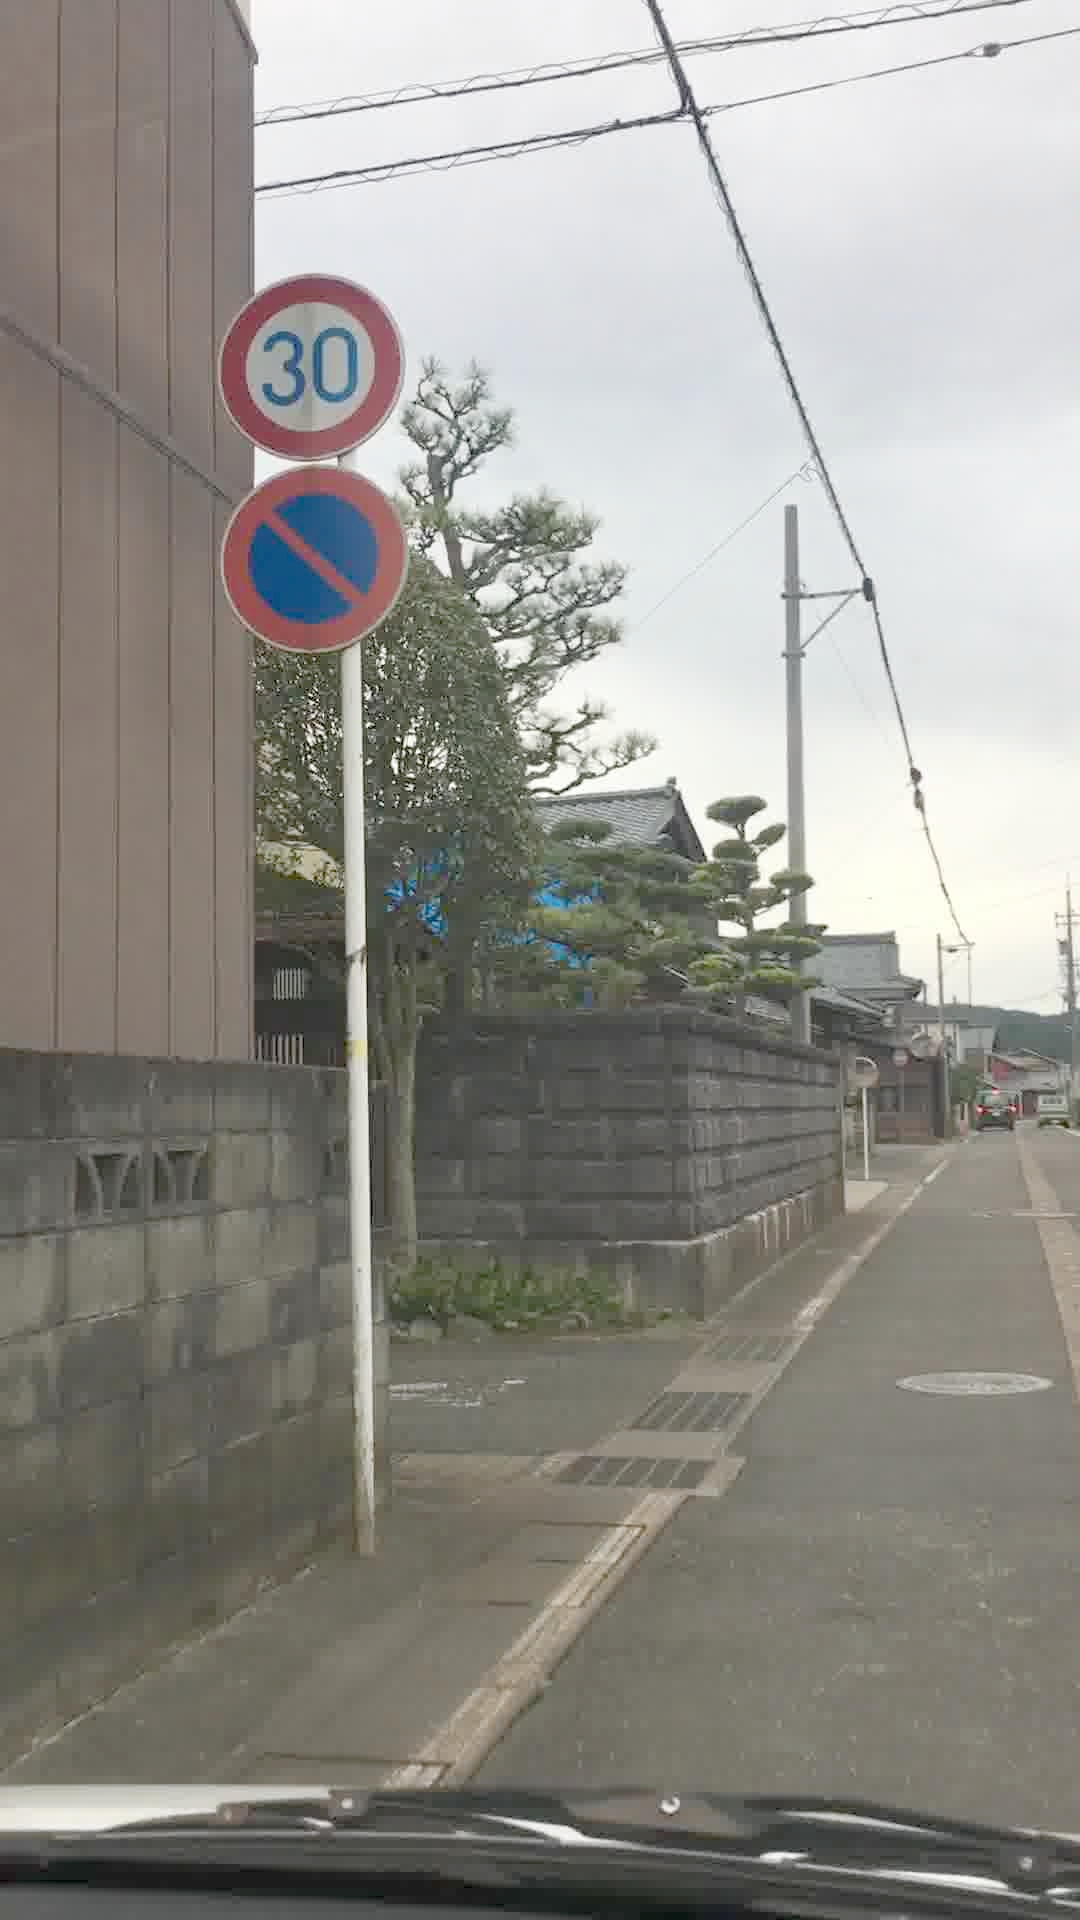Prohibition_sign: (236, 472, 426, 659)
Speed_sign: (206, 264, 418, 483)
